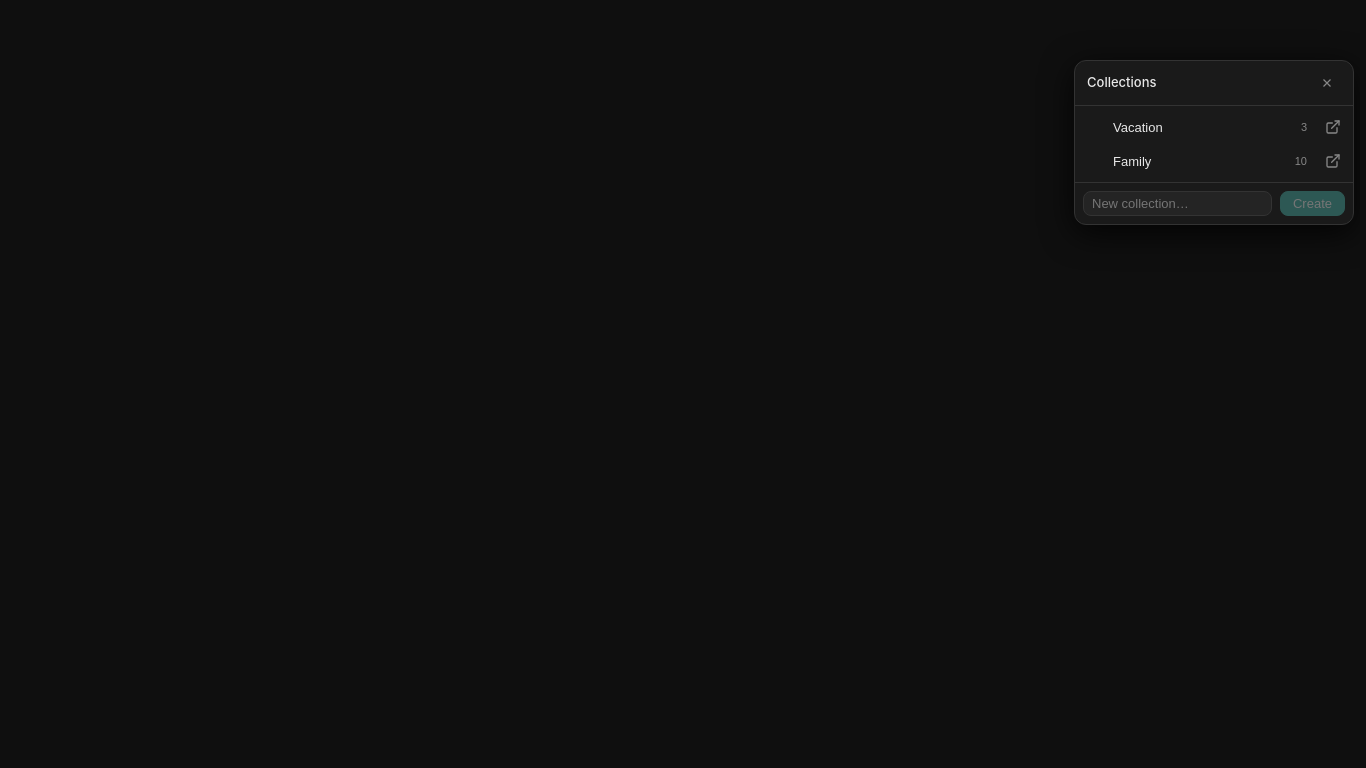
Scenario: CollectionsPanel › typing a name enables the Create button
Type "My Album" into the field with placeholder "New collection…" at (1178, 204), box 1083,191 -> 1272,216
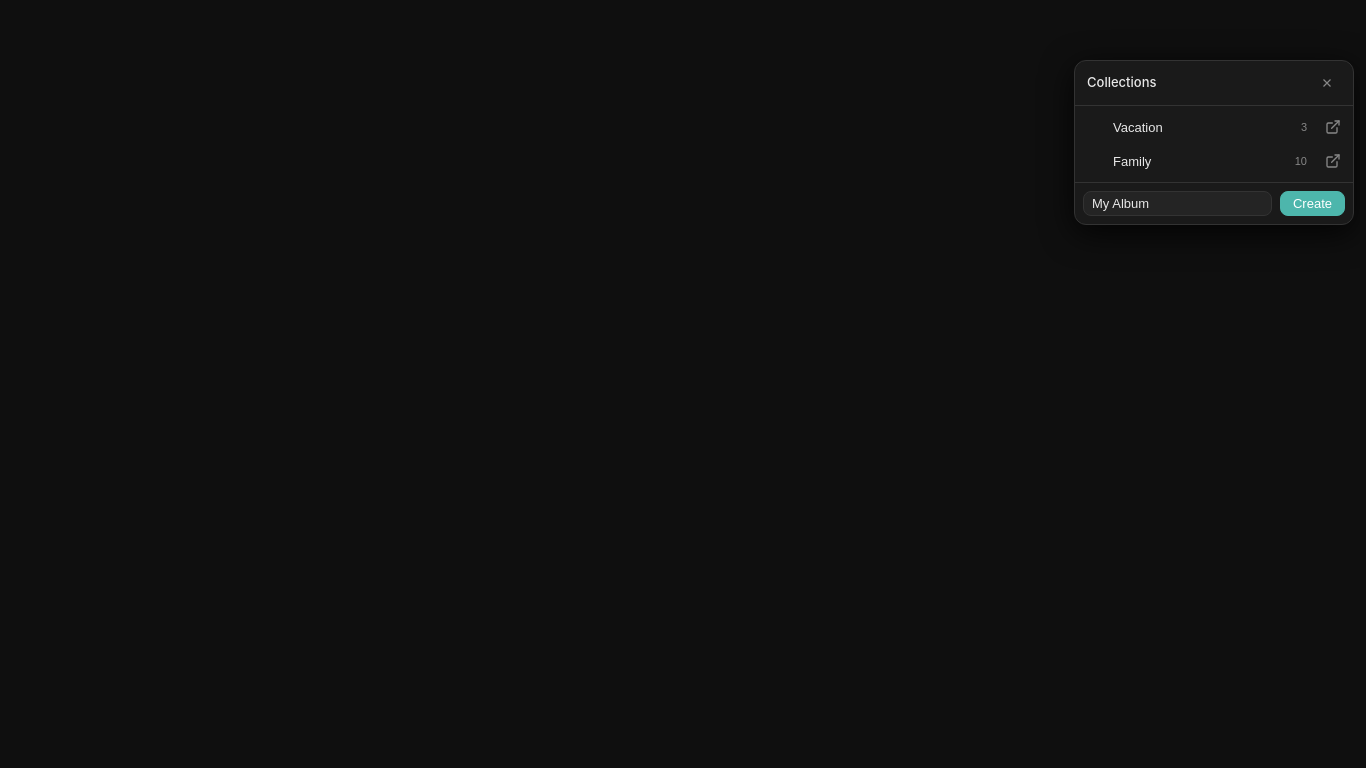
Now the button with aria-label "create collection" is enabled, box 1280,191 -> 1345,216
